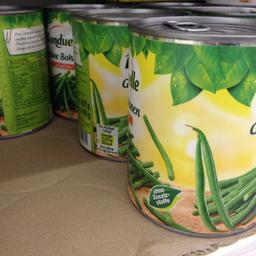beans: (126, 17, 255, 226), (70, 4, 146, 166)
